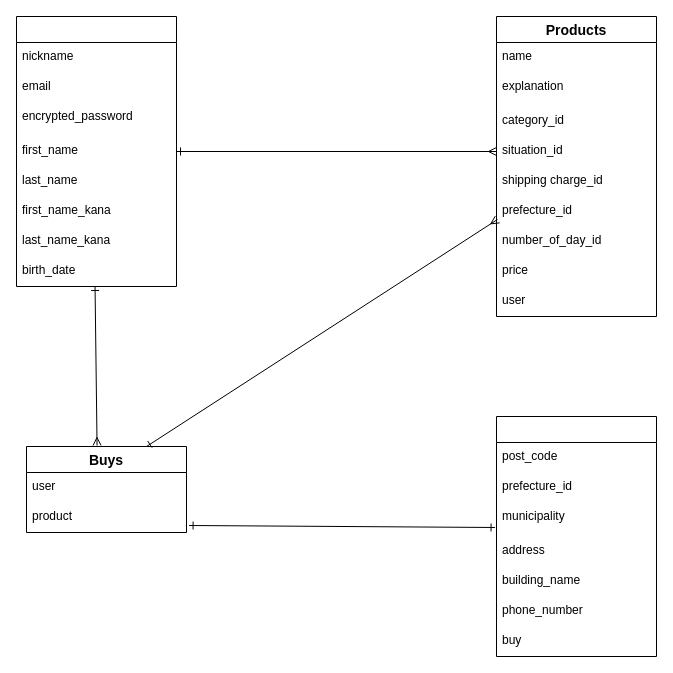
This 673x673 diagram has some shape labels left out. The box of each missing label's shape, as (x1, y1, x2, y2) in pixels:
Addresses: (496, 416, 656, 656)
Users: (16, 16, 176, 286)
